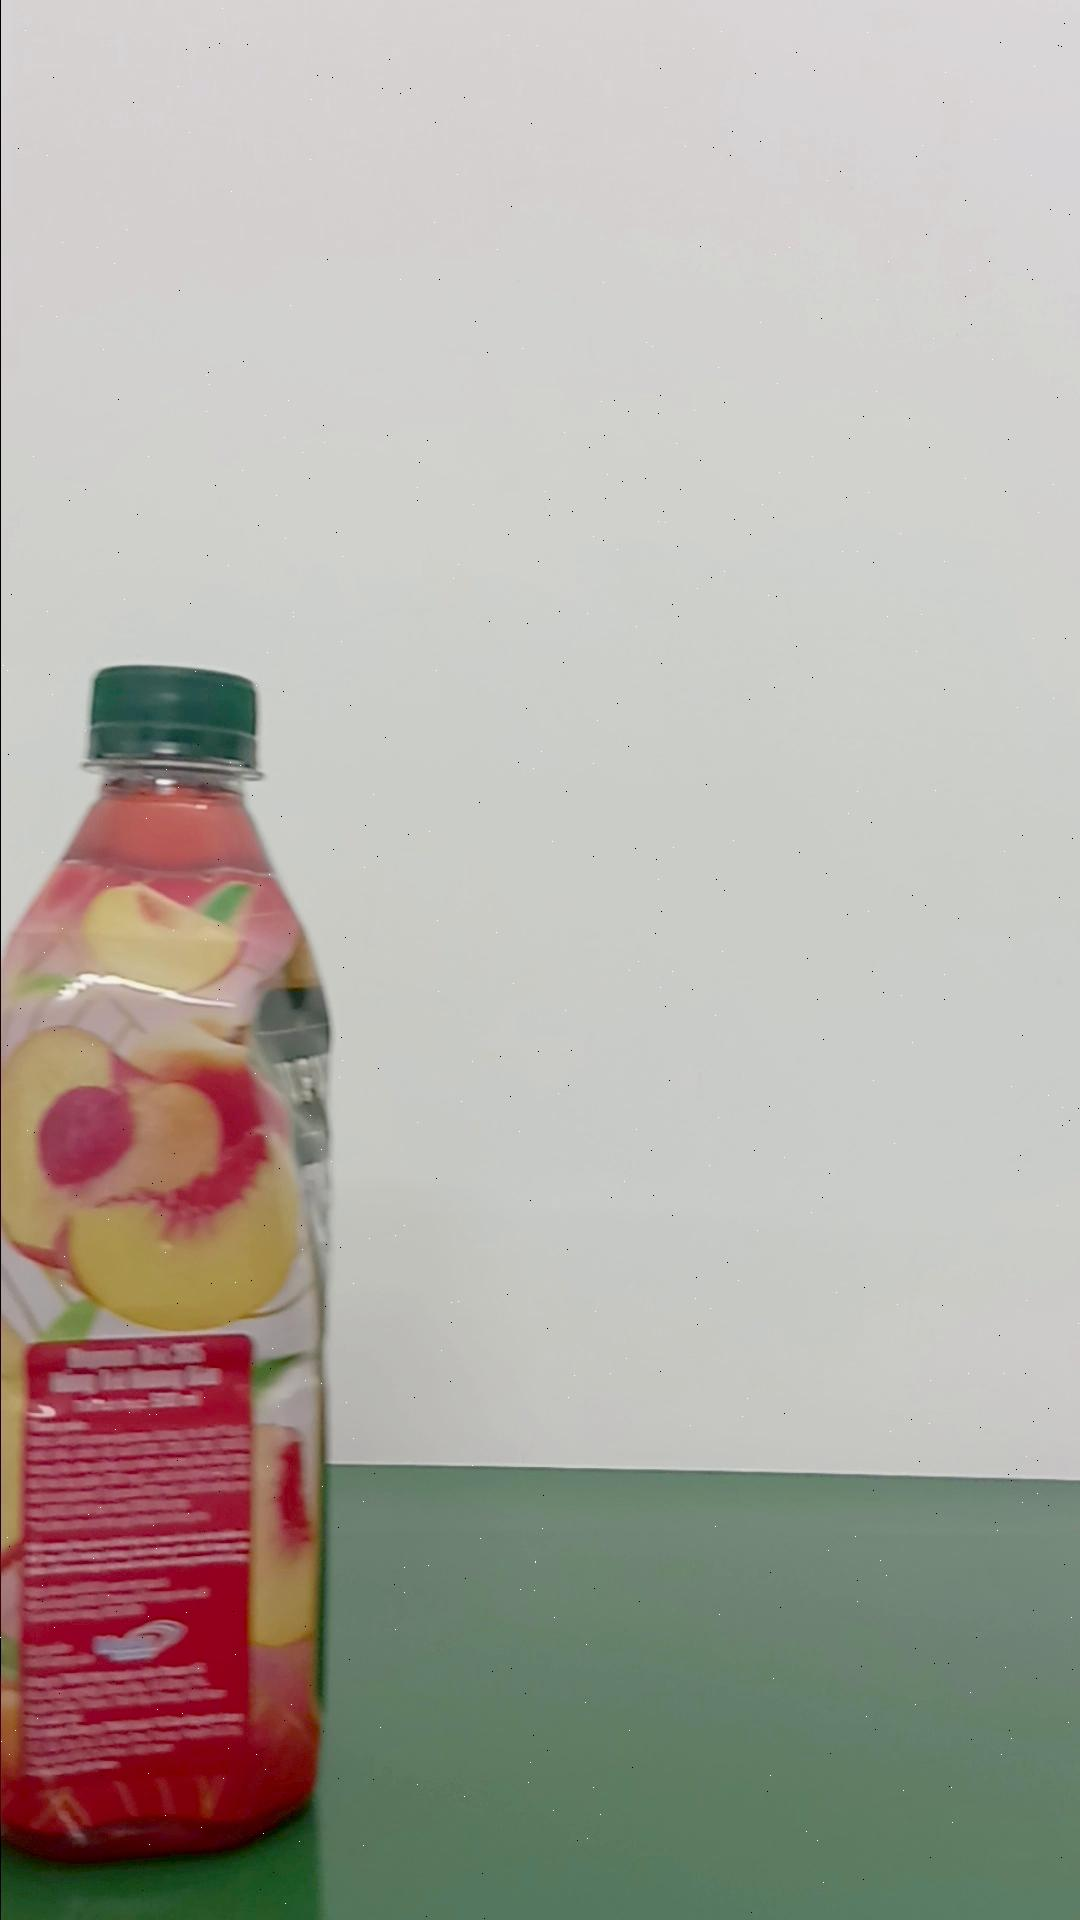loi meo sp: (3, 662, 338, 1859)
